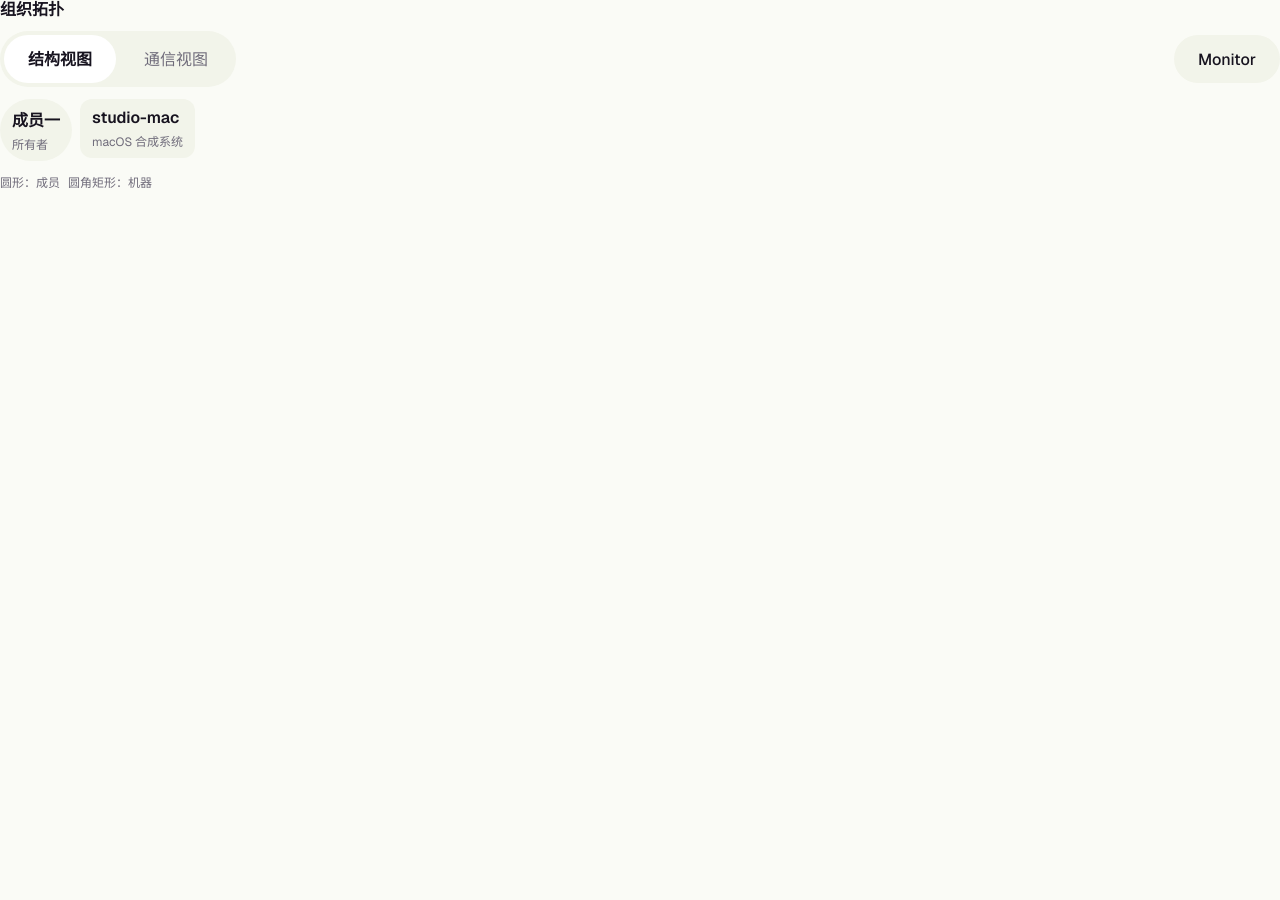
Test case: J7 topology rendering › also opens Inspect with the Space key
Step 1. Click the button "通信视图" → (176, 59), box [120,35,232,83]
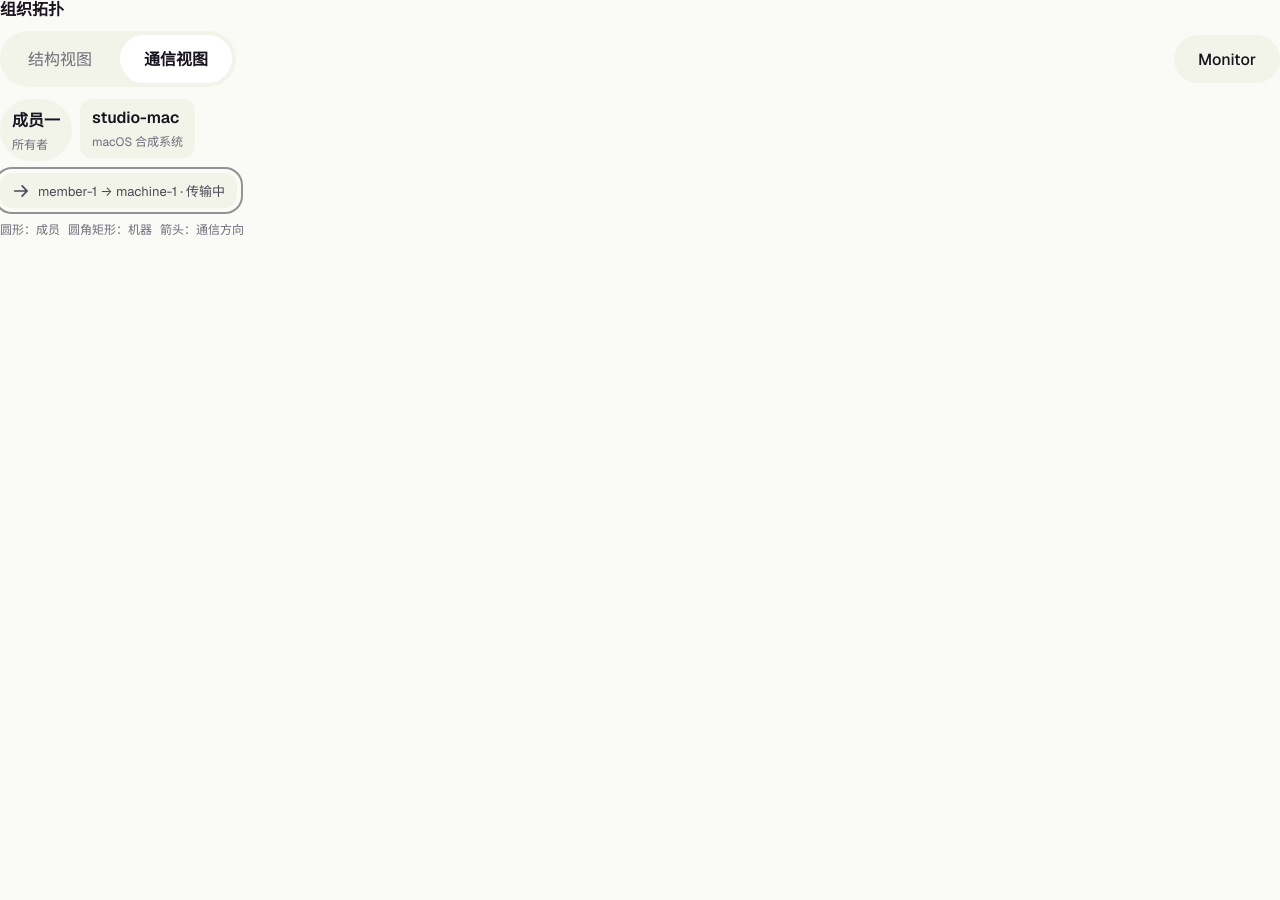
Step 2. Type keys " "
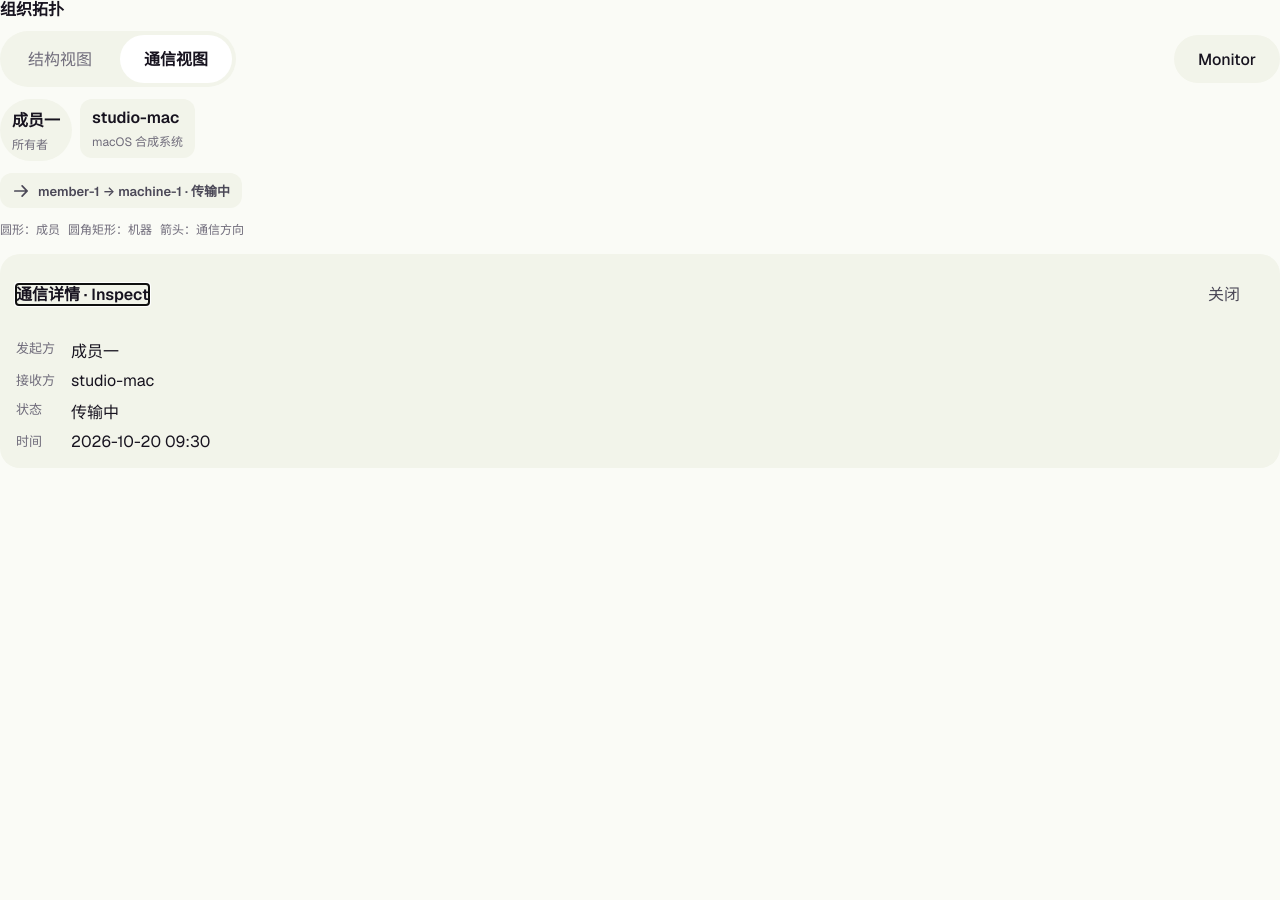
Expected: the dialog is shown, [0,254,1279,468]
